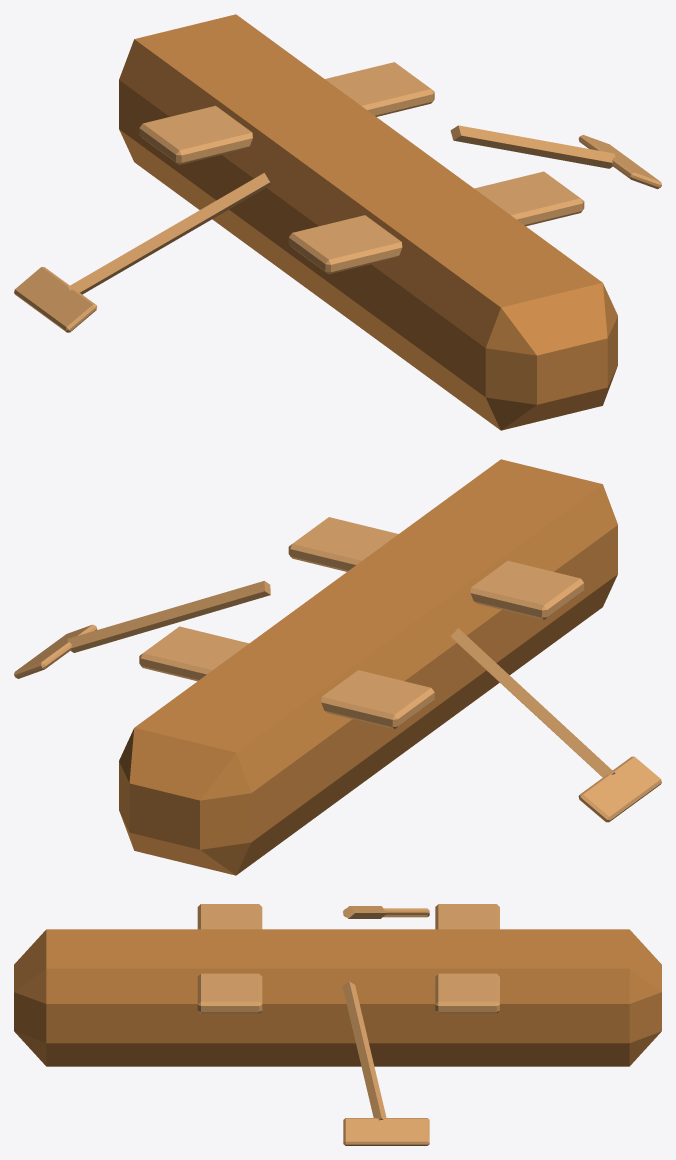
The model's file is Rowboat.fbx.
The picture shows the model from 3 angles, top to bottom: view 1: azimuth 30°, elevation 25°; view 2: azimuth 150°, elevation 25°; view 3: azimuth 270°, elevation 25°; orthographic projection. The views are drawn at different scales.
Parts seen in each view (by area): view 1: Rowboat; view 2: Rowboat; view 3: Rowboat.
Part boxes in pixels (x1,y1,x2,y2): Rowboat: (14, 14, 661, 430); Rowboat: (14, 459, 661, 875); Rowboat: (14, 904, 661, 1145).
Size of the model in its own units: 5.07 by 1.05 by 6.
Materials: 1 (1 with a texture image).
